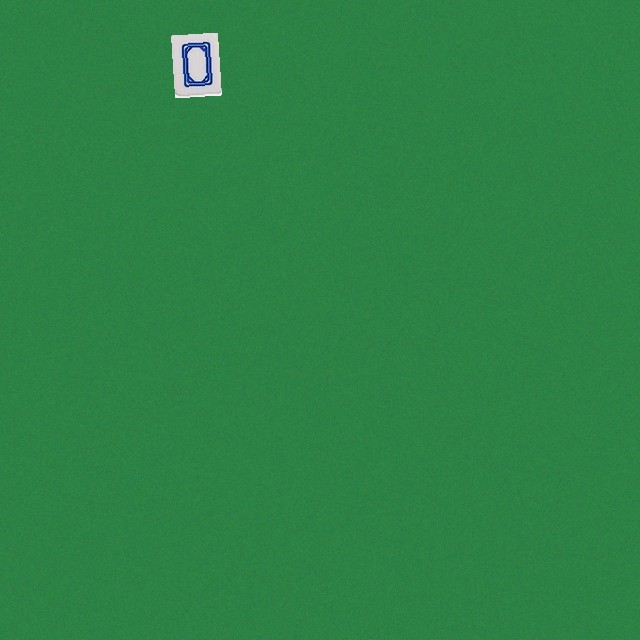tile: (171, 32, 218, 95)
